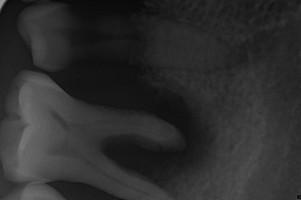Dental Caries: (102, 67, 216, 187)
